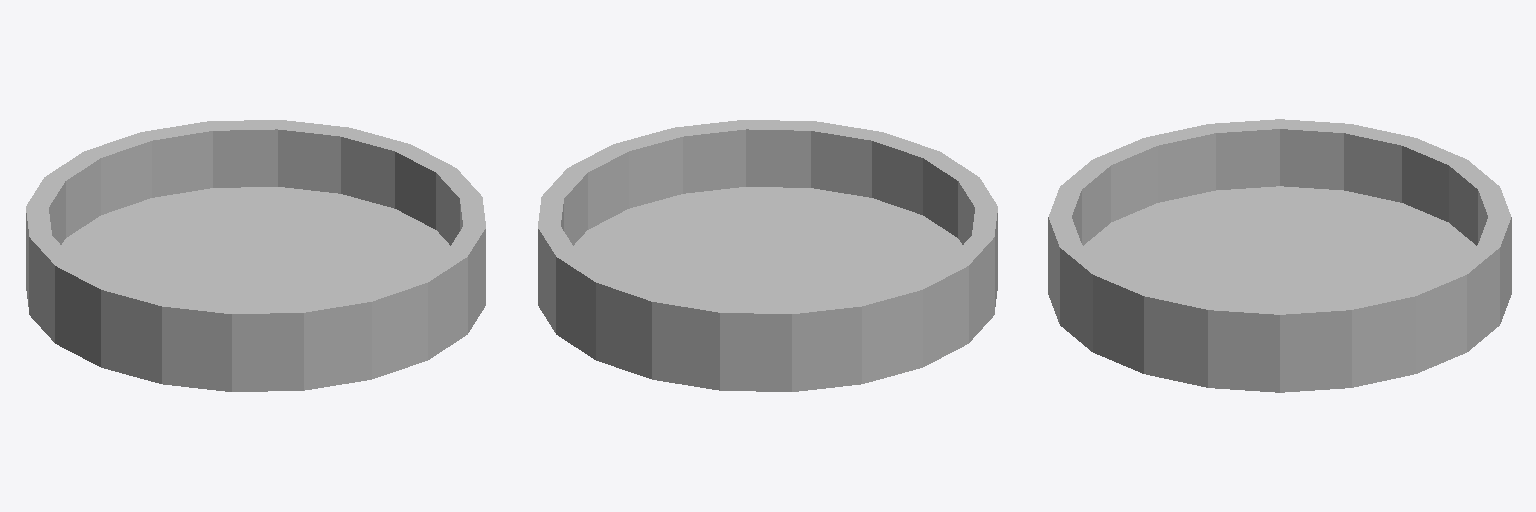
Rendered from boll.obj.
The picture shows the model from 3 angles: view 1: azimuth 30°, elevation 25°; view 2: azimuth 150°, elevation 25°; view 3: azimuth 270°, elevation 25°; orthographic projection.
Visible parts, largest first — view 1: pCylinder1; view 2: pCylinder1; view 3: pCylinder1.
Boxes of the visible parts, x1,y1,x2,y2 form: pCylinder1: [26, 120, 485, 391]; pCylinder1: [538, 120, 997, 391]; pCylinder1: [1048, 119, 1511, 392].
Size of the model in its own units: 6.04 by 1.12 by 6.04.